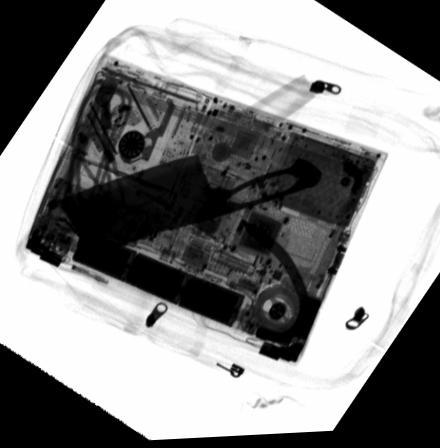Knife: (54, 154, 323, 254)
